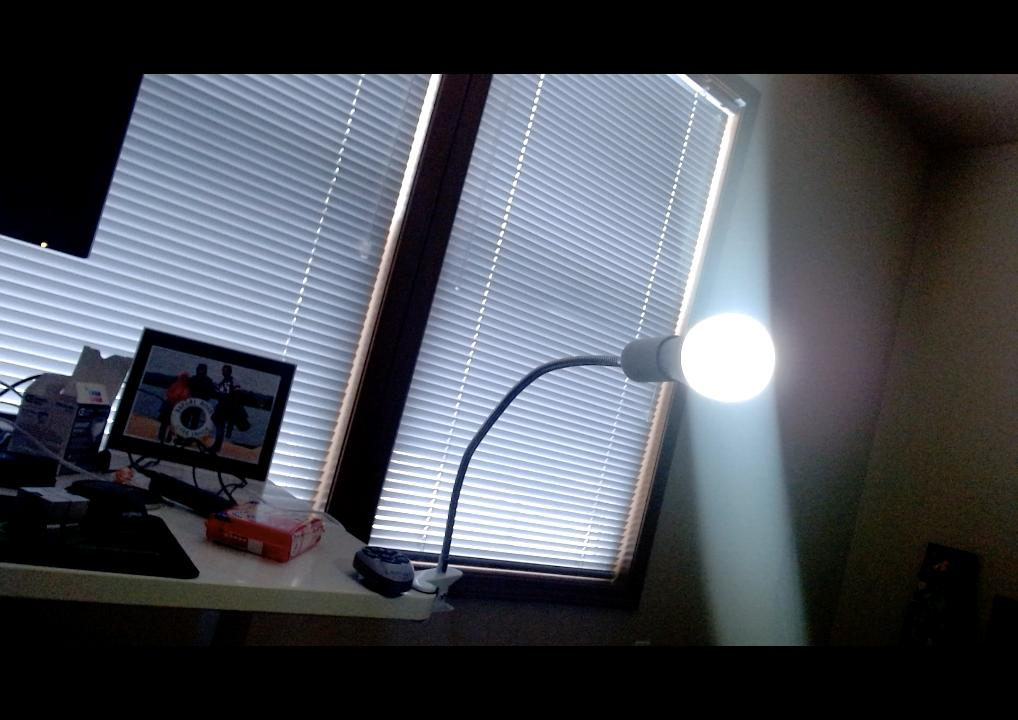TubeLight: (664, 309, 776, 401)
